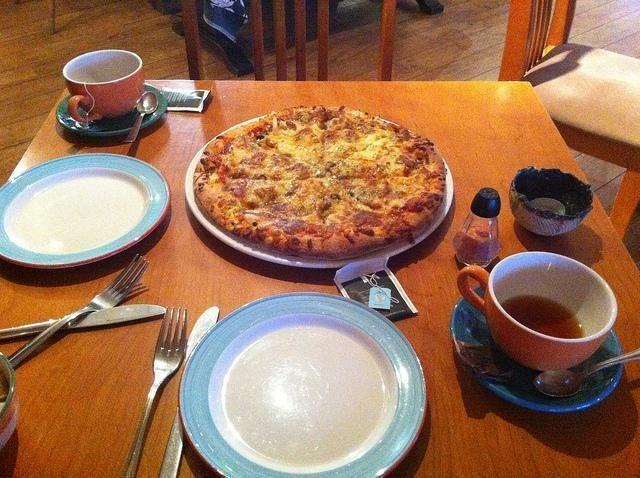cup-handle: (456, 251, 619, 380), (63, 50, 145, 122)
